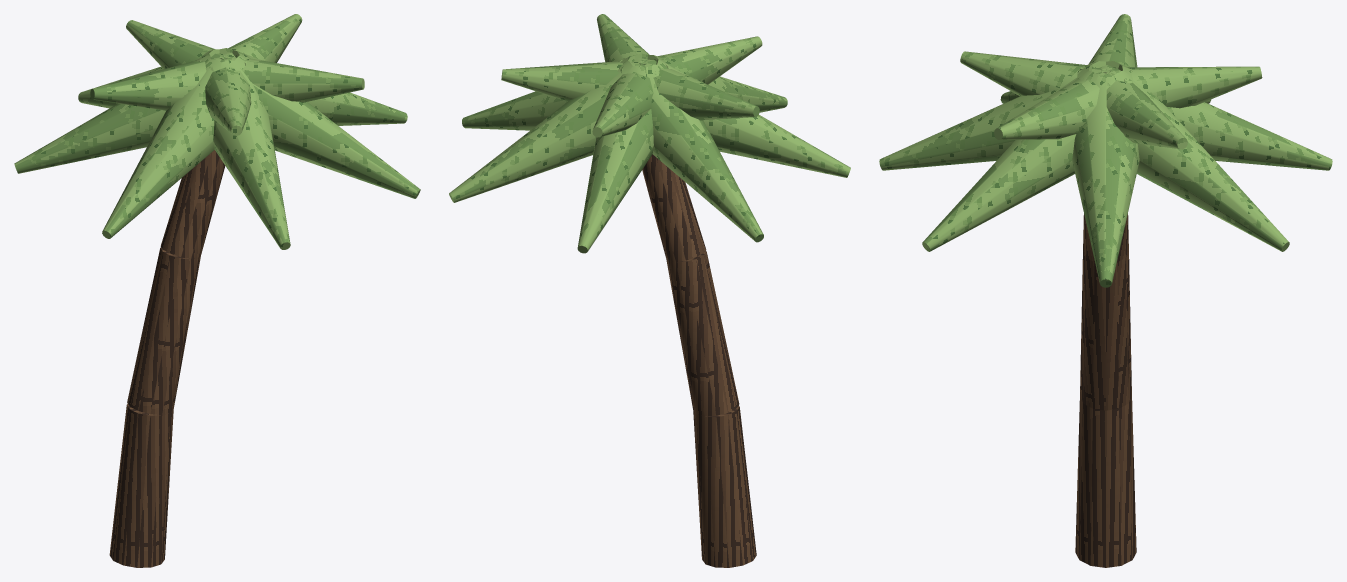
File: spec_palm_tree_1.glb
3 renders of one model, left to right at view 1: azimuth 30°, elevation 25°; view 2: azimuth 150°, elevation 25°; view 3: azimuth 270°, elevation 25°, orthographic. The views are drawn at different scales.
Visible parts, largest first — view 1: spec_palm_tree_1; view 2: spec_palm_tree_1; view 3: spec_palm_tree_1.
Part boxes in pixels (<box>): spec_palm_tree_1: <box>14,14,420,567</box>; spec_palm_tree_1: <box>449,14,850,567</box>; spec_palm_tree_1: <box>879,14,1332,567</box>.
Bounding box in the file's own units: 2.89 × 3.85 × 2.96.
2 materials, 2 textured.
